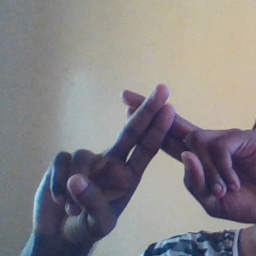F: (77, 73, 240, 221)
